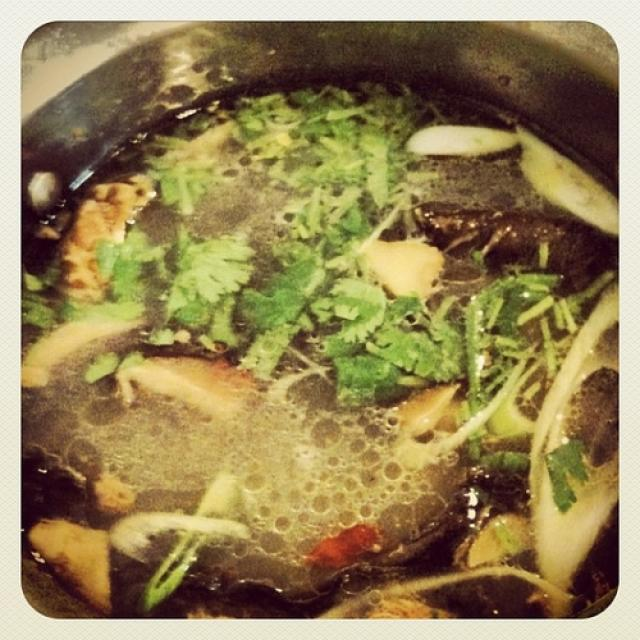汤锅炖物: (45, 35, 603, 604)
